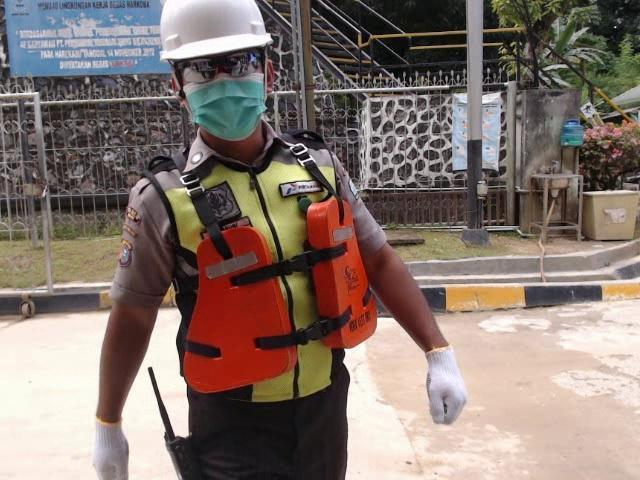vest: (178, 197, 379, 398)
